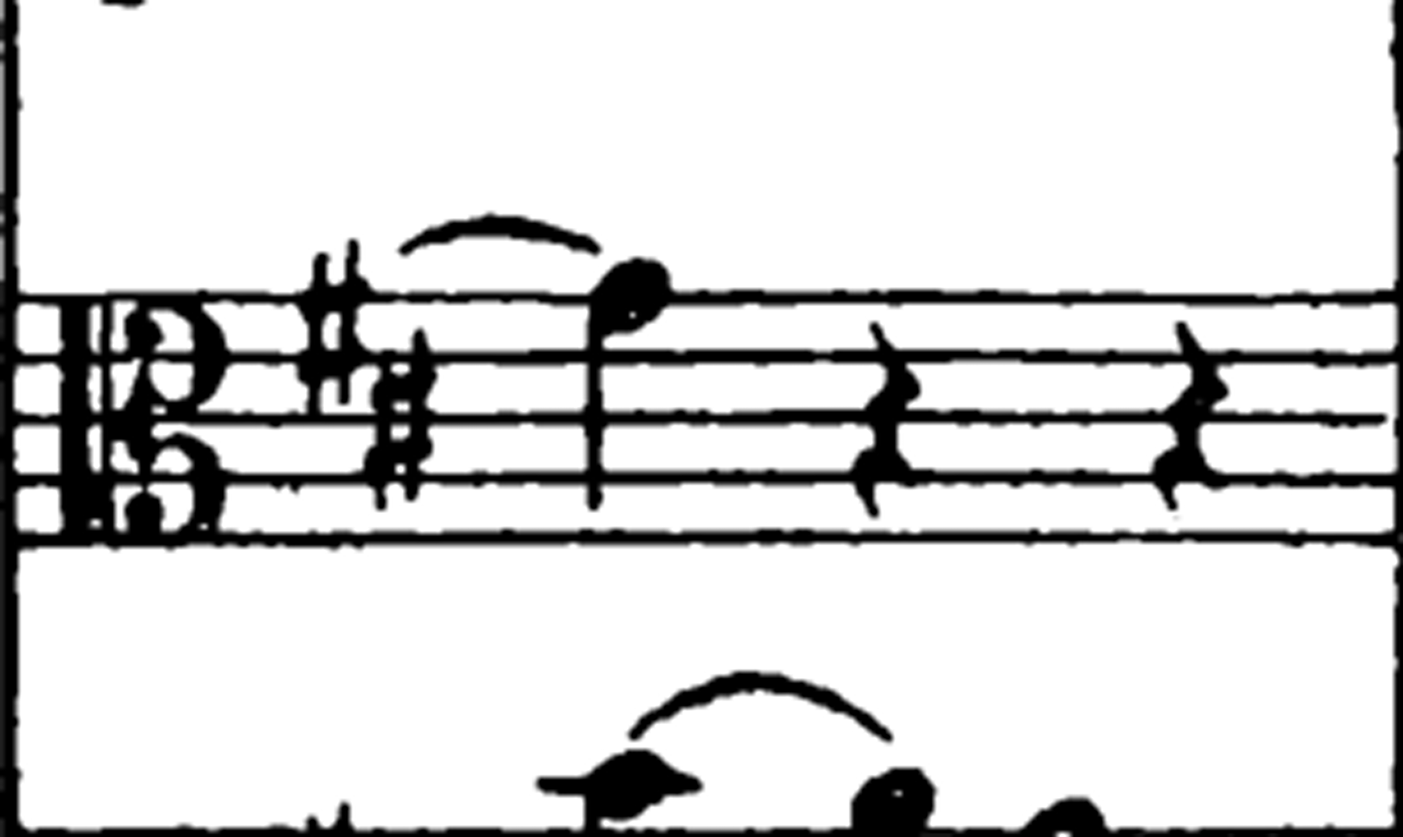beam: (633, 666, 893, 743), (402, 212, 601, 254)
clefCAlto: (25, 251, 256, 582)
restHBar: (18, 502, 1070, 577), (1, 799, 1034, 837)
tie: (402, 214, 598, 254)
